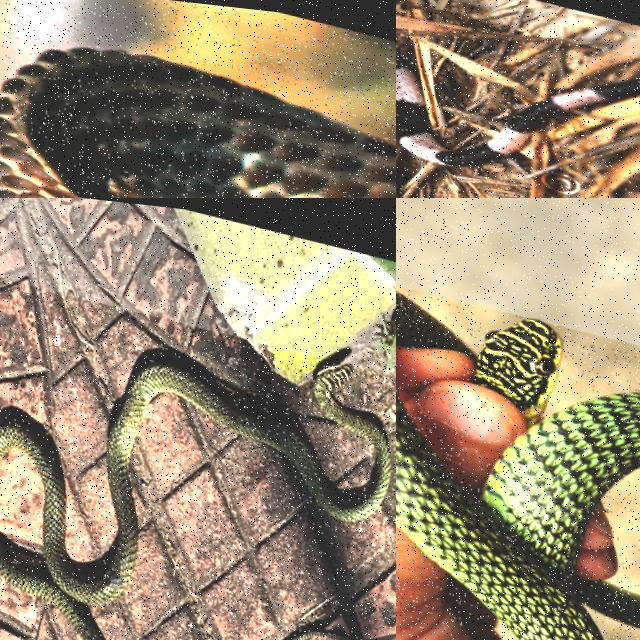Bungarus candidus: (396, 55, 639, 166)
Chrysopelea ornata: (0, 363, 390, 639), (396, 392, 639, 639)
Ophiophagus hannah: (0, 0, 395, 197)
snake: (0, 363, 390, 639), (0, 0, 395, 197), (396, 392, 639, 639), (396, 55, 639, 166)
